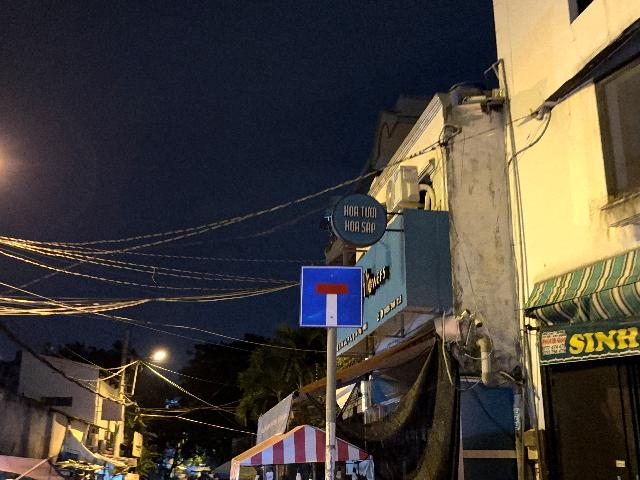duong-cut: (300, 266, 363, 328)
